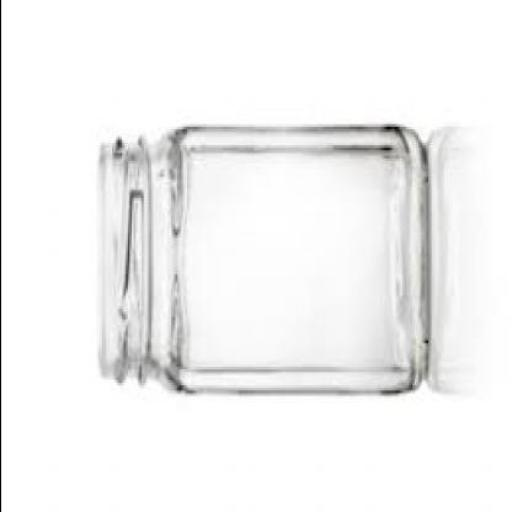glass: (97, 124, 425, 390)
